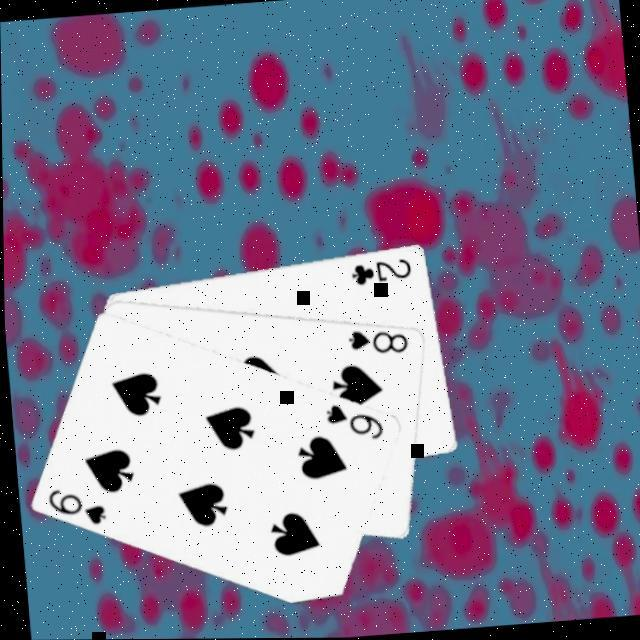2C: (348, 256, 417, 290)
6S: (322, 399, 388, 447), (44, 484, 110, 532)
8S: (344, 324, 414, 362)
